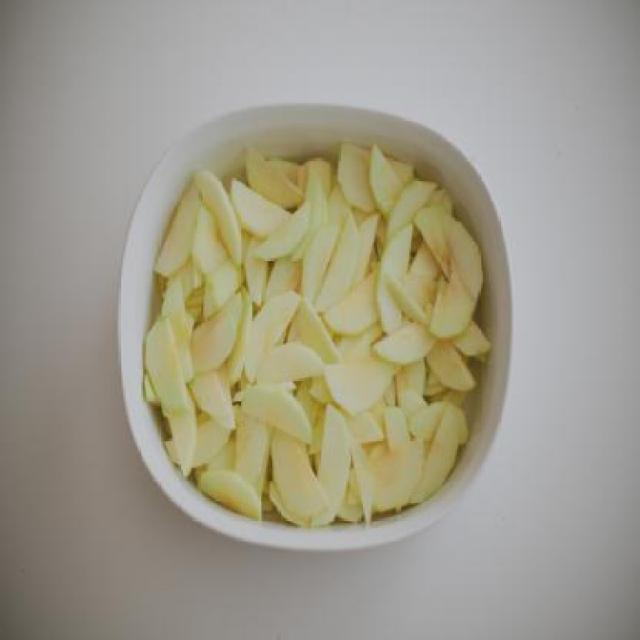Potato: (144, 148, 490, 530)
